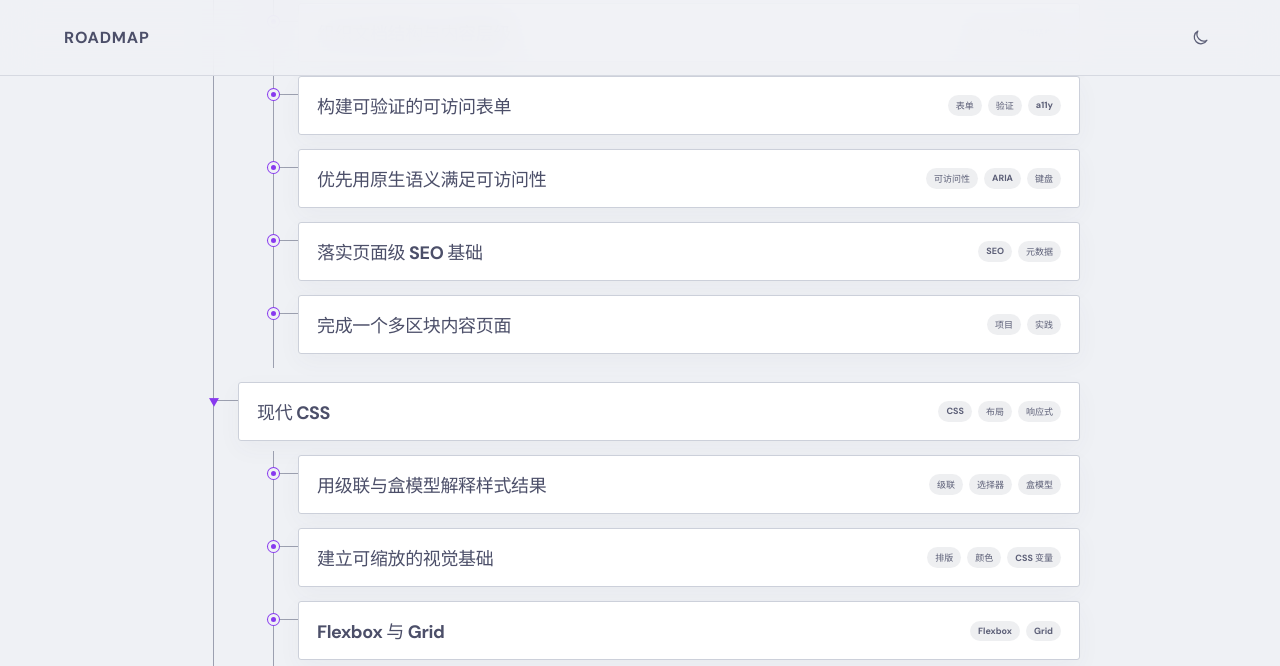
Test: App › expands nodes with children by default and lets users collapse them
(page scrolled)
Check: the heading "Flexbox 与 Grid" is shown, box [317,617,444,644]
Click the button named "折叠 现代 CSS 的子节点". click: click(214, 401)
box: [199,386,228,415]
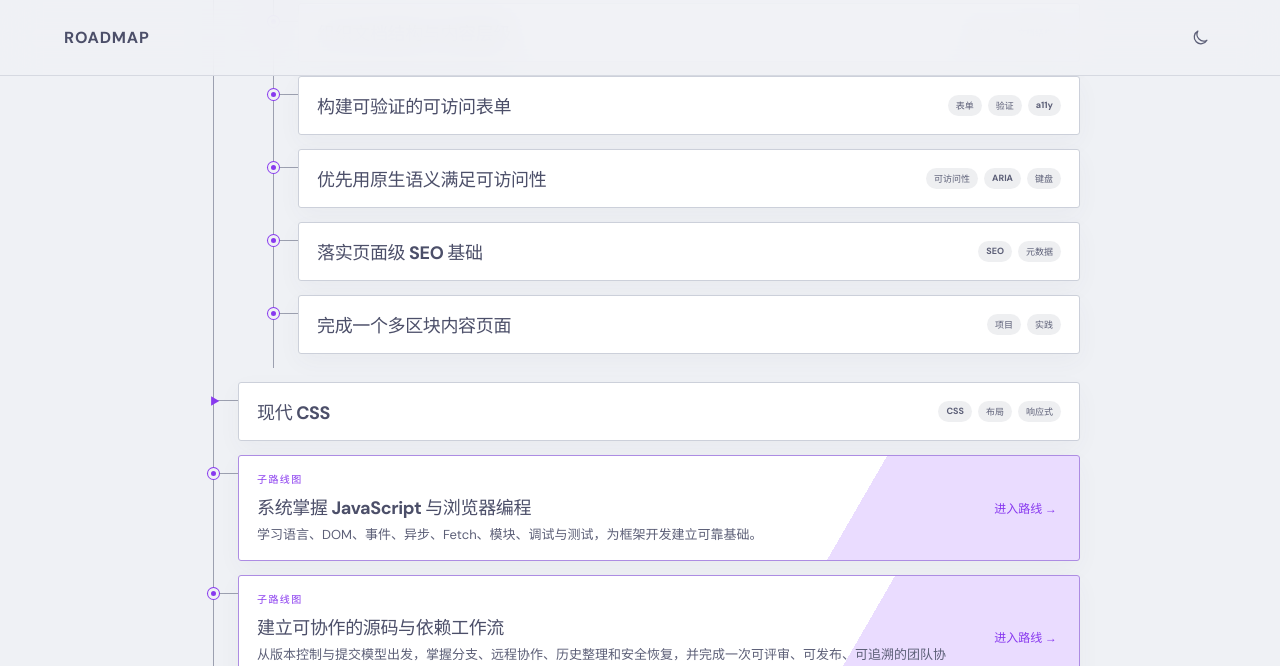
Check: the button named "展开 现代 CSS 的子节点" is collapsed, box [199,386,228,415]
Check: the heading "Flexbox 与 Grid" is gone
